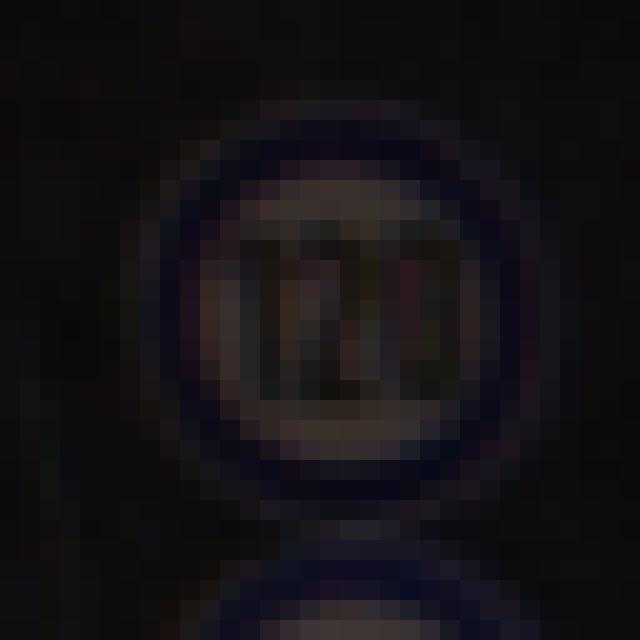SPEED LIMIT 120: (120, 117, 554, 504)
